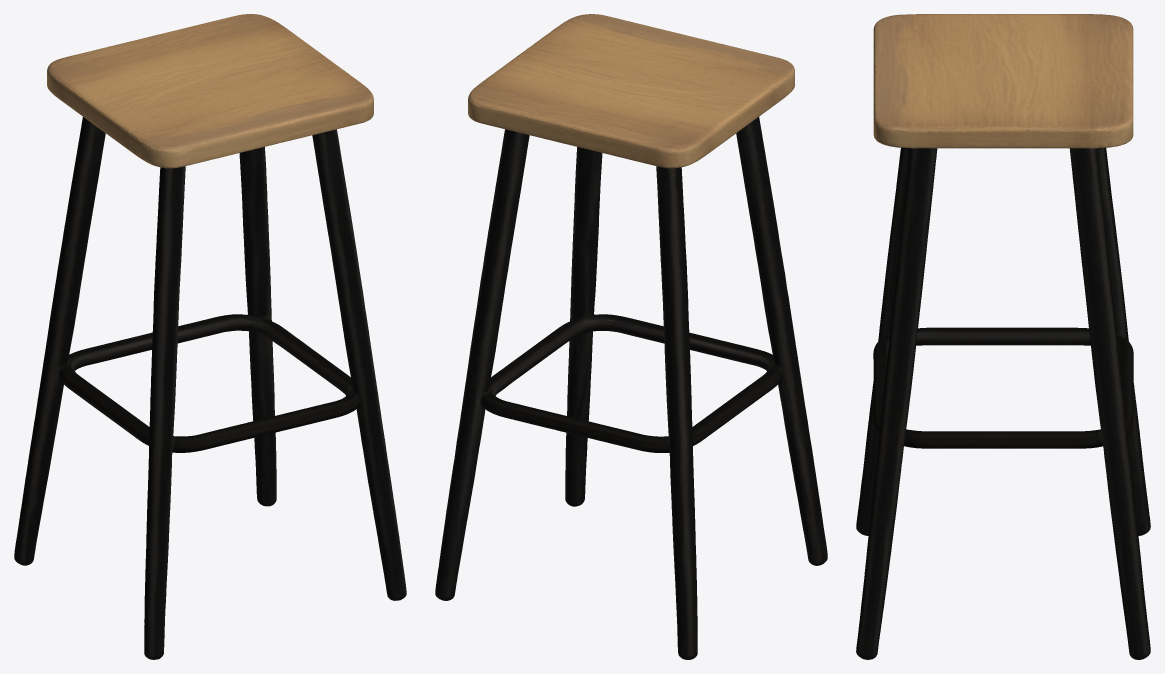
The model's file is item_cf27b20a.glb.
3 renders of one model, left to right at view 1: azimuth 30°, elevation 25°; view 2: azimuth 150°, elevation 25°; view 3: azimuth 270°, elevation 25°, orthographic. The views are drawn at different scales.
Visible parts, largest first — view 1: world; view 2: world; view 3: world.
Part boxes in pixels (<box>): world: <box>14,14,406,659</box>; world: <box>435,14,827,659</box>; world: <box>856,14,1150,659</box>.
Size of the model in its own units: 0.4068 by 0.75 by 0.3807.
1 material, 1 textured.
